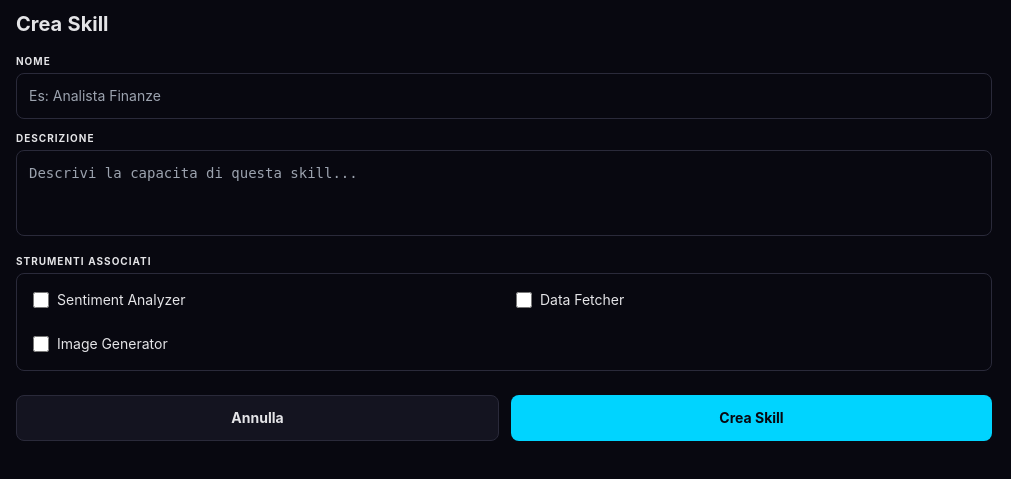
it: SkillForm › shows validation error when schema fails
Click the button "Crea Skill".
click(752, 418)  # box [511,395,992,441]
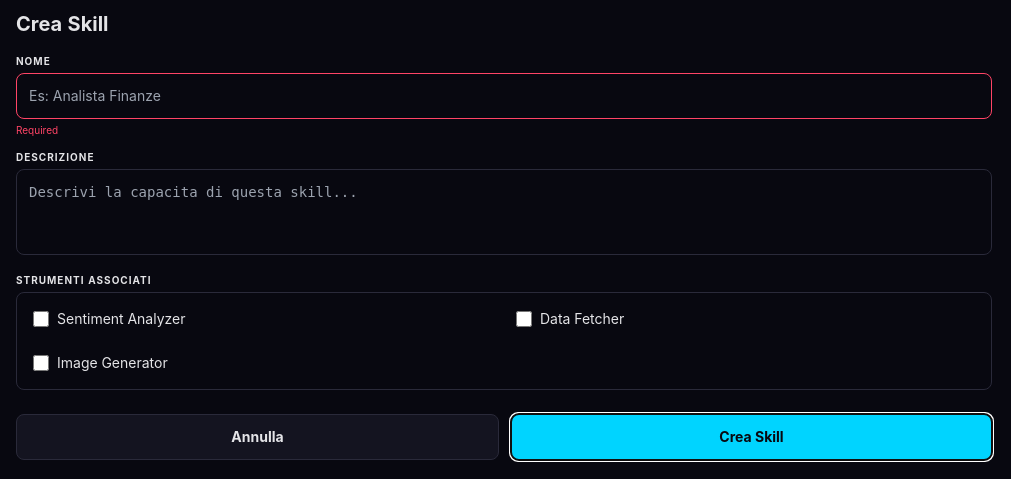
Check: the text "Required" is shown, box [16,124,58,136]
